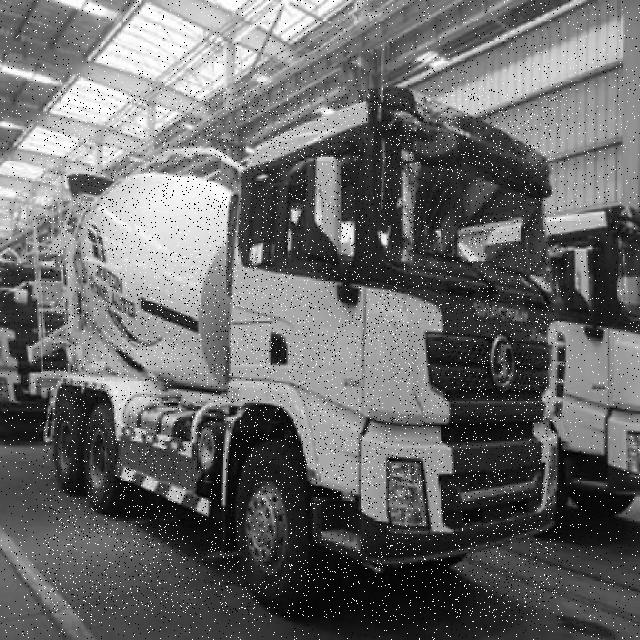Concrete Mixer: (44, 88, 563, 617)
